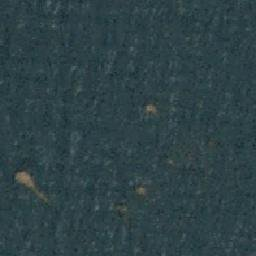debris: (13, 168, 48, 201), (143, 102, 158, 117)
